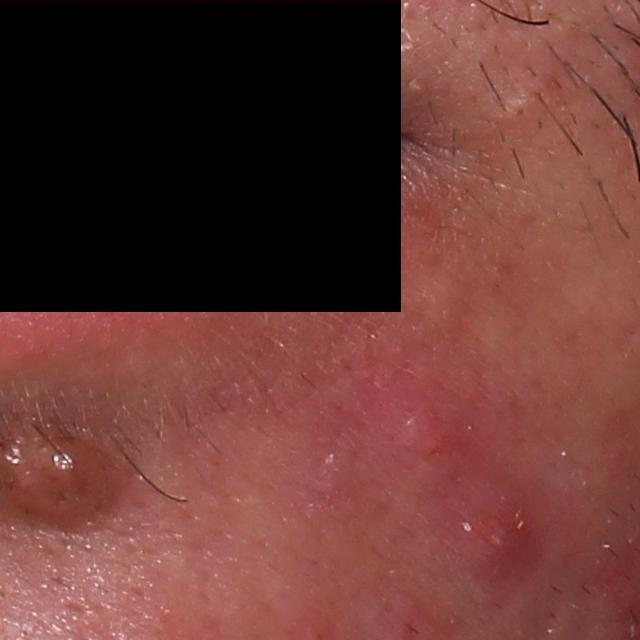comedo: (506, 88, 540, 123)
papule: (465, 494, 549, 580), (390, 396, 453, 469)
